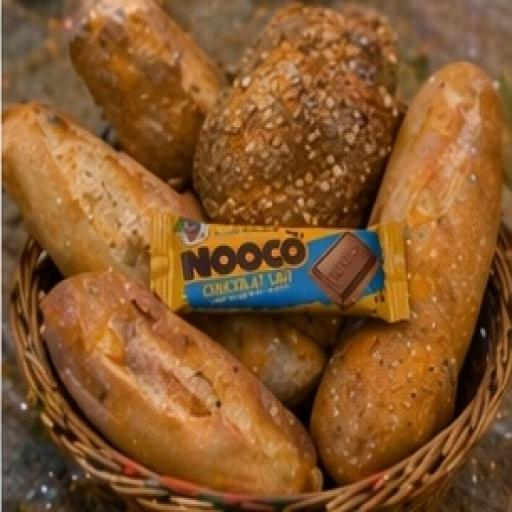nooco: (129, 123, 442, 382)
